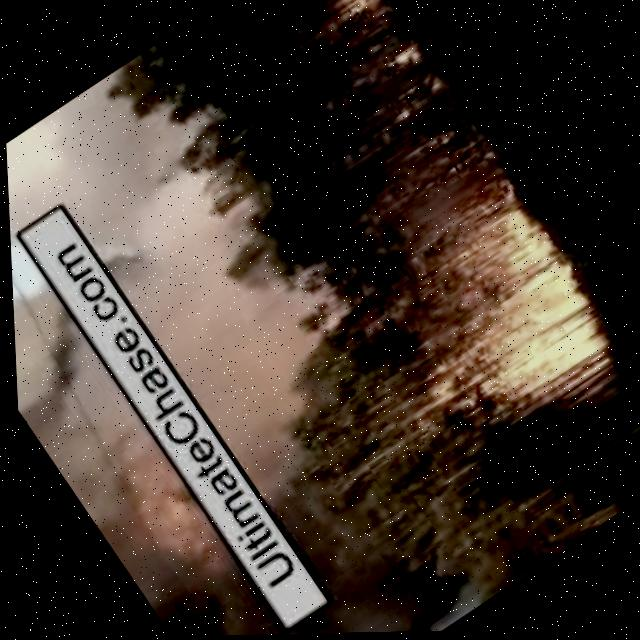Fire: (354, 191, 632, 468), (357, 43, 451, 135), (317, 0, 388, 34)
Smoke: (13, 44, 397, 506), (9, 262, 325, 640)
